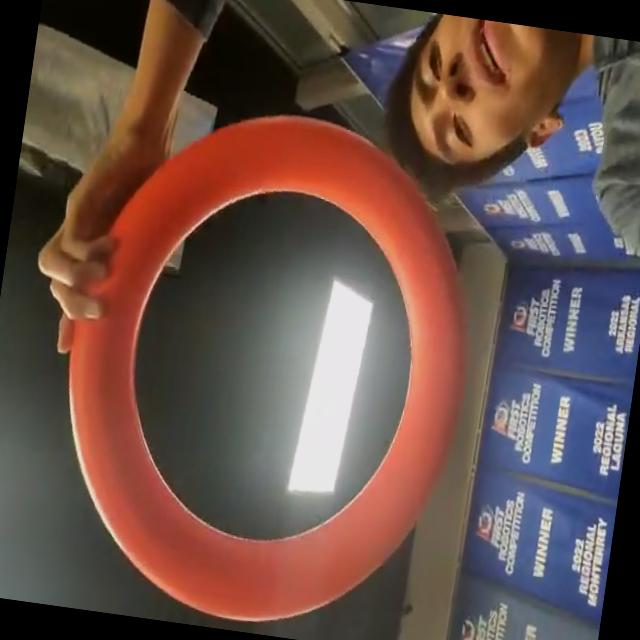note: (30, 85, 504, 640)
